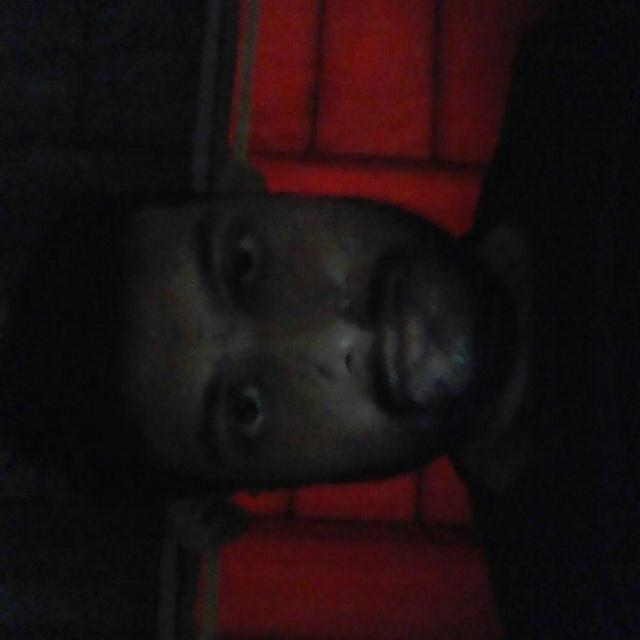Natural: (146, 147, 506, 508)
